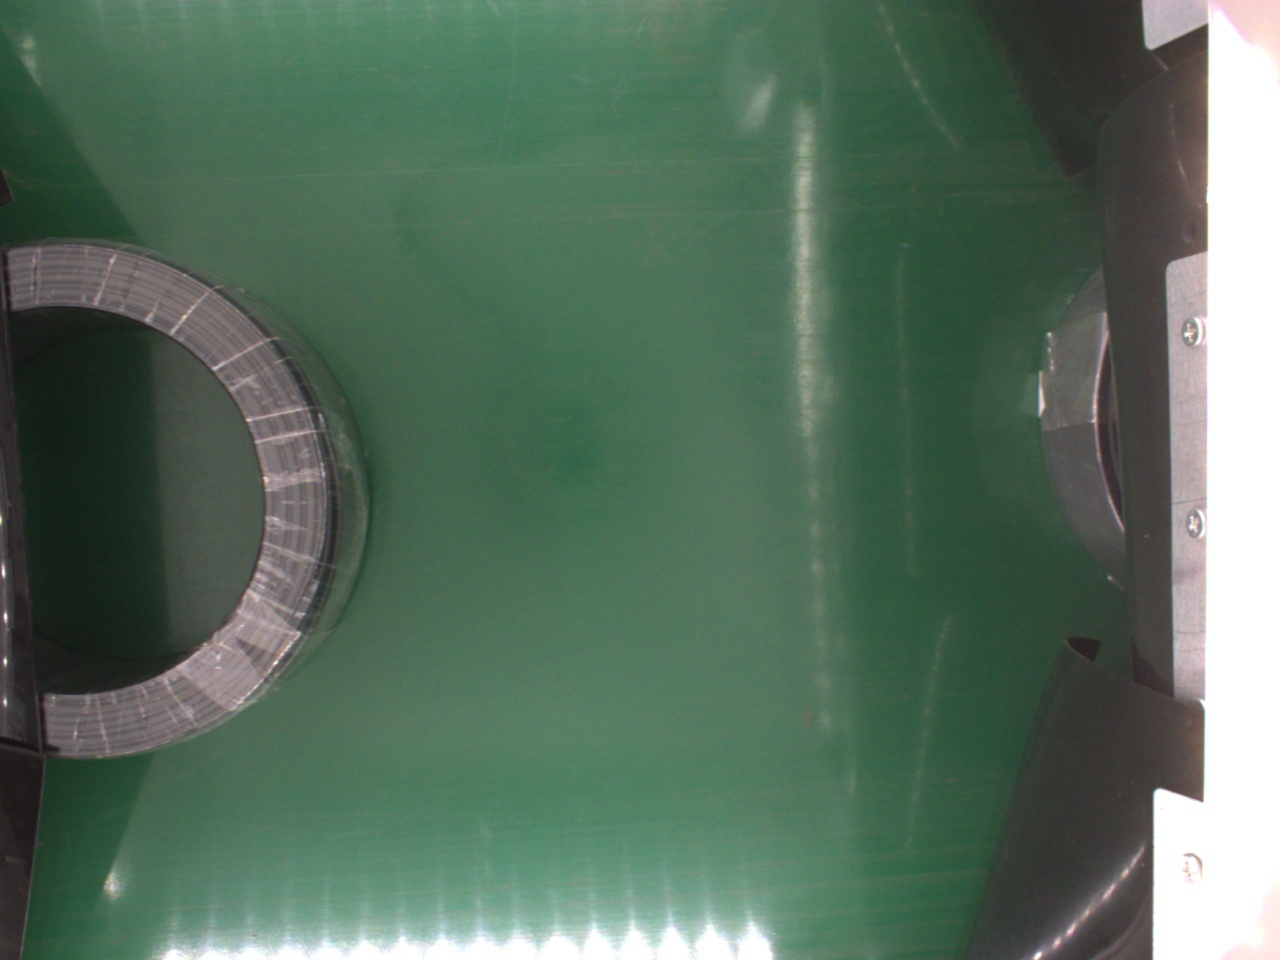black: (21, 240, 370, 764)
